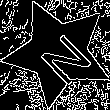N_NW: (26, 21, 90, 84)
